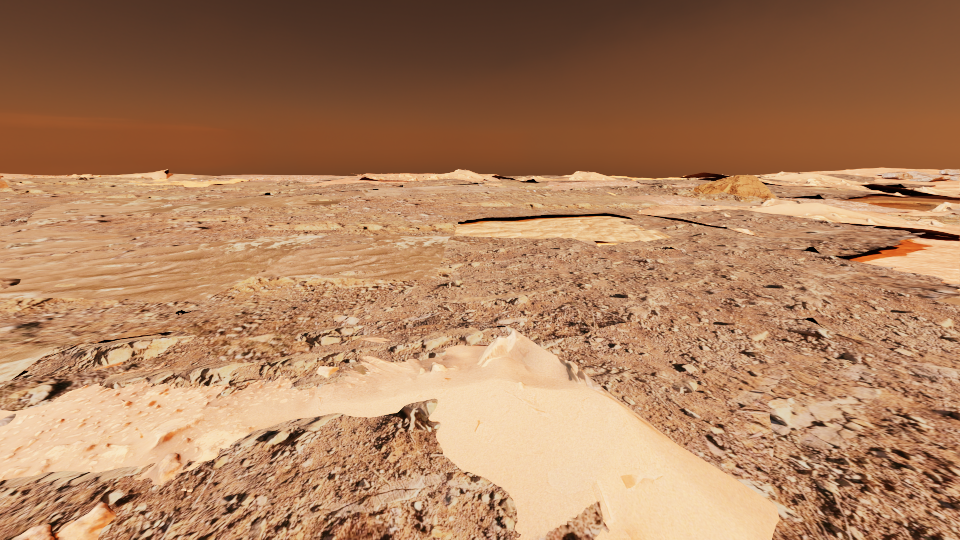bedrock: (11, 209, 959, 539), (0, 399, 520, 539), (0, 275, 425, 311), (551, 178, 769, 205), (244, 179, 560, 196), (257, 220, 457, 235), (765, 185, 877, 210), (449, 197, 659, 210), (825, 174, 934, 187), (887, 207, 959, 224), (159, 214, 294, 223), (0, 187, 165, 194), (0, 205, 49, 225), (226, 176, 344, 184), (2, 179, 154, 185), (86, 194, 173, 198), (0, 277, 20, 289), (334, 270, 373, 275), (302, 197, 342, 200), (209, 187, 263, 189), (397, 197, 445, 199), (762, 179, 792, 182), (502, 175, 532, 178), (541, 175, 570, 178), (176, 310, 191, 315), (75, 176, 90, 180), (615, 177, 632, 180), (54, 284, 75, 286)
hole: (861, 201, 942, 208)
rocks: (694, 175, 774, 198), (875, 169, 959, 181), (0, 180, 7, 187)
sand: (0, 235, 450, 301), (0, 194, 347, 258), (454, 213, 670, 245), (835, 234, 959, 283), (801, 168, 959, 188), (854, 210, 959, 234), (0, 346, 56, 386), (111, 173, 275, 186), (288, 175, 406, 185), (609, 176, 686, 180), (938, 296, 959, 304), (905, 196, 959, 199), (480, 174, 499, 180), (355, 365, 366, 374), (867, 193, 900, 196), (458, 178, 485, 180)
soil: (0, 335, 557, 480), (0, 181, 752, 262), (0, 277, 453, 363), (682, 359, 821, 481), (0, 184, 307, 207), (539, 501, 609, 539), (842, 188, 959, 208), (135, 453, 208, 484), (761, 181, 862, 194), (445, 235, 539, 248), (0, 174, 153, 181), (818, 180, 897, 193), (182, 175, 352, 181), (843, 218, 897, 229), (768, 197, 832, 205), (863, 205, 932, 212), (374, 182, 470, 187), (555, 178, 638, 183), (361, 174, 428, 180), (681, 174, 731, 180), (711, 226, 745, 233), (852, 333, 875, 343), (93, 502, 114, 511), (361, 337, 389, 342), (324, 188, 341, 190)
